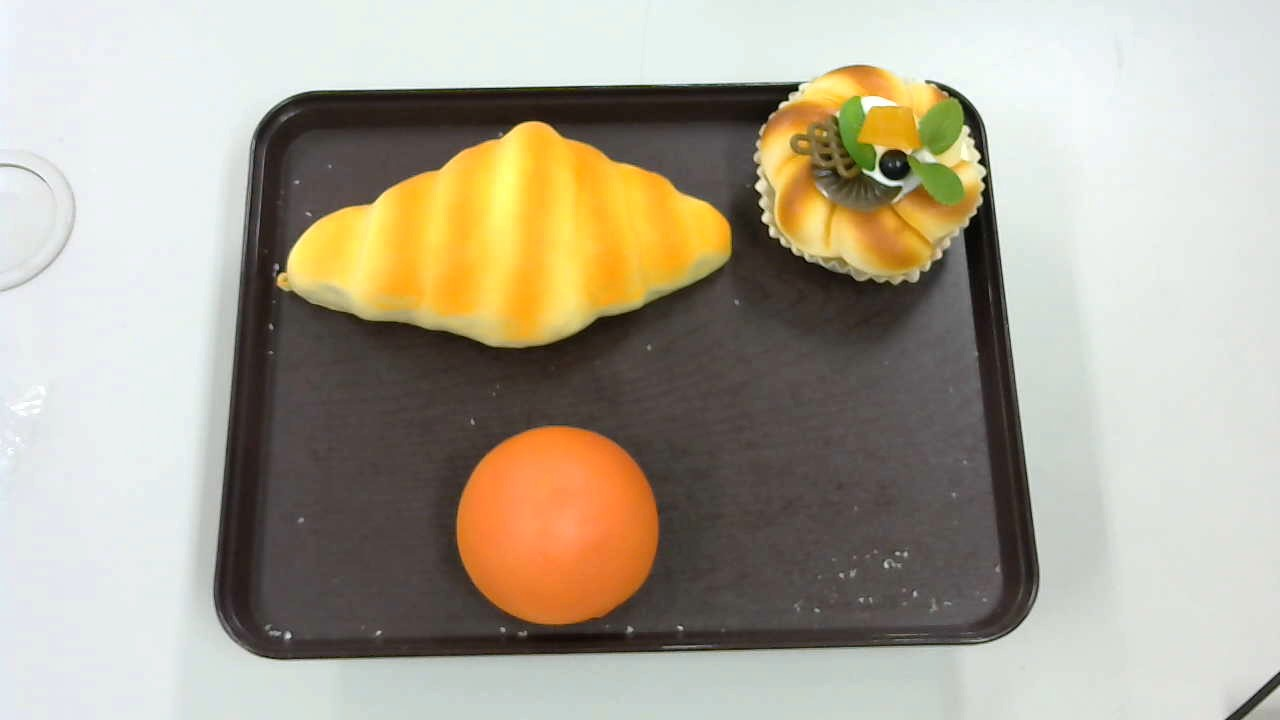bun: (455, 425, 659, 626)
croissant: (276, 119, 734, 348)
fruit tart: (755, 64, 988, 287)
